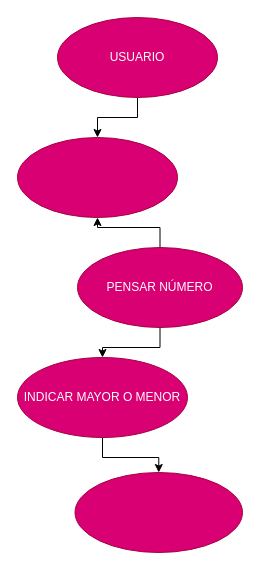
Some shapes in this 260 by 570 pixel diagram are drawn without their labels. Each missing label, with the centre of its shape:
"CONFIRMAR NÚMERO" goes at (x=158, y=512).
"INICIAR JUEGO" goes at (x=97, y=177).
